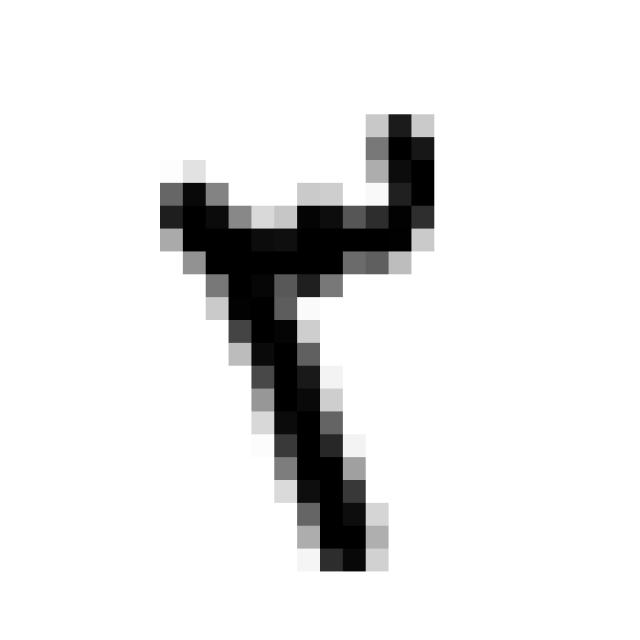3 -three-: (130, 100, 453, 577)
